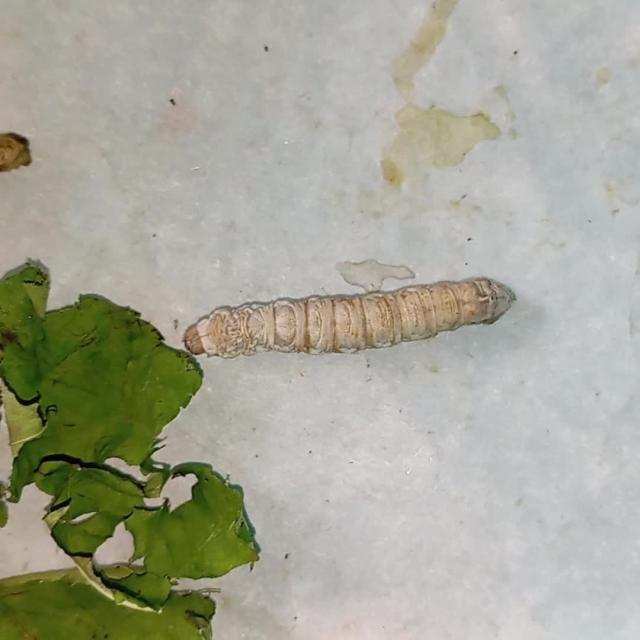Grasserie: (169, 254, 544, 426)
